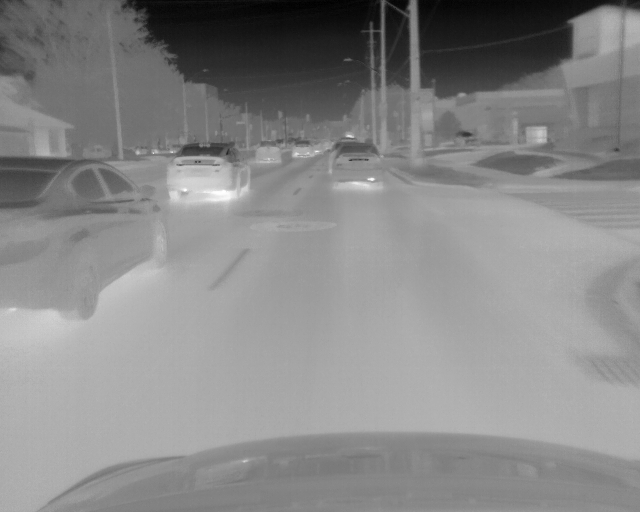car: (1, 156, 168, 321), (168, 142, 251, 201), (332, 144, 380, 186), (254, 139, 283, 164), (290, 141, 314, 159), (314, 140, 324, 156)
